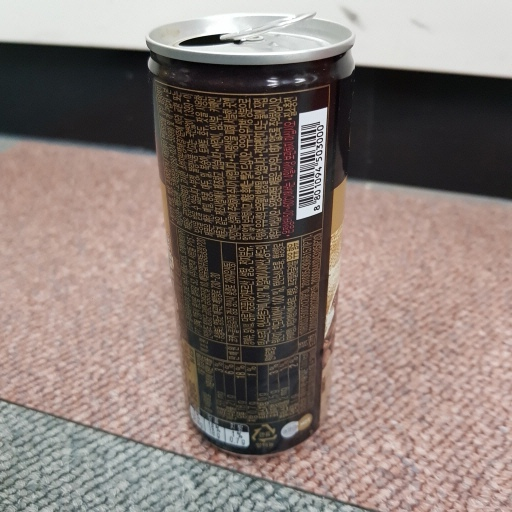Metal_0: (143, 10, 354, 457)
